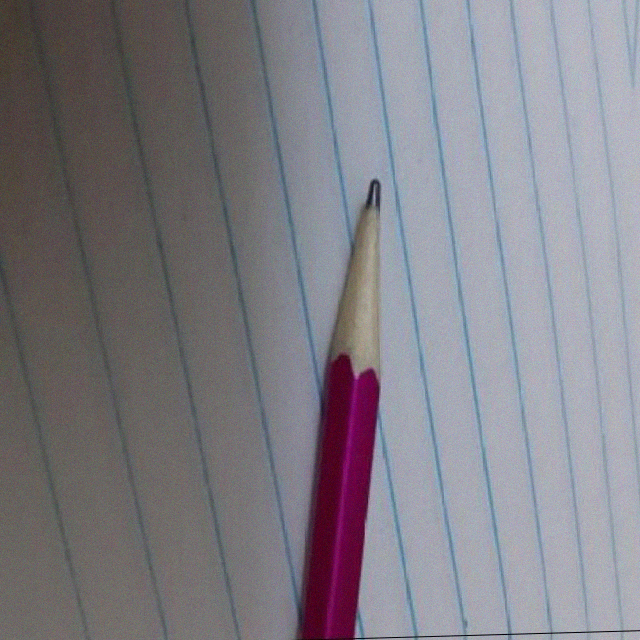pencil: (323, 170, 409, 384)
